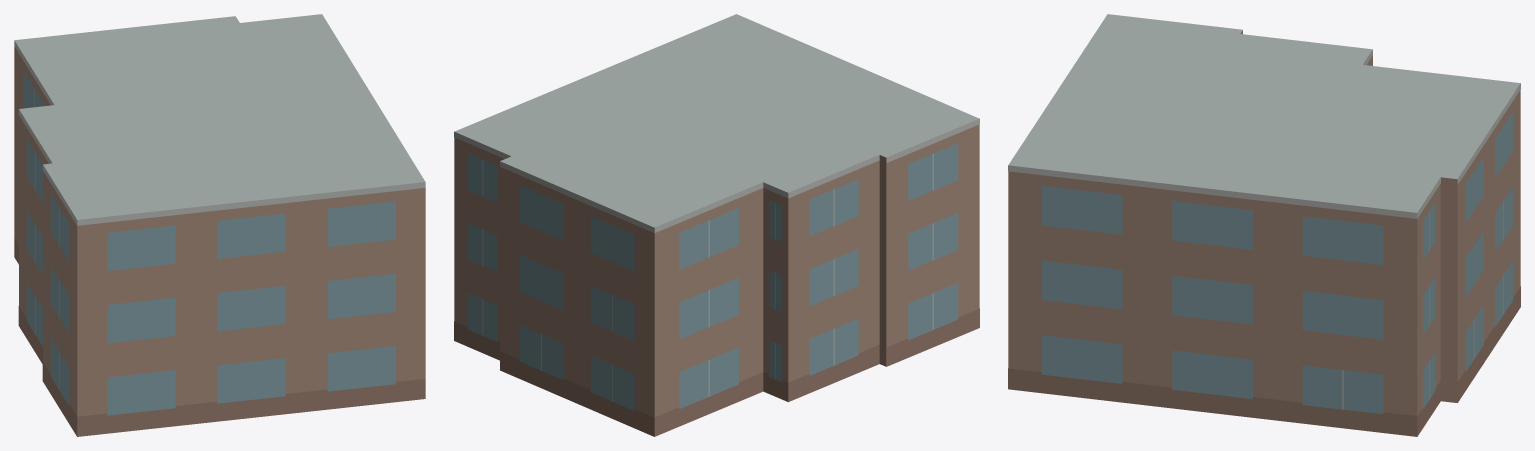
The model's file is survey-upis-32908666.glb.
3 views of the same model, side by side, from view 1: azimuth 30°, elevation 25°; view 2: azimuth 150°, elevation 25°; view 3: azimuth 270°, elevation 25° (orthographic). The views are drawn at different scales.
Parts seen in each view (by area): view 1: survey-upis-32908666.tmp; view 2: survey-upis-32908666.tmp; view 3: survey-upis-32908666.tmp.
Part boxes in pixels (x1,y1,x2,y2): survey-upis-32908666.tmp: [14, 14, 425, 436]; survey-upis-32908666.tmp: [454, 14, 979, 436]; survey-upis-32908666.tmp: [1008, 14, 1520, 436].
Size of the model in its own units: 17.44 by 9.15 by 18.99.
